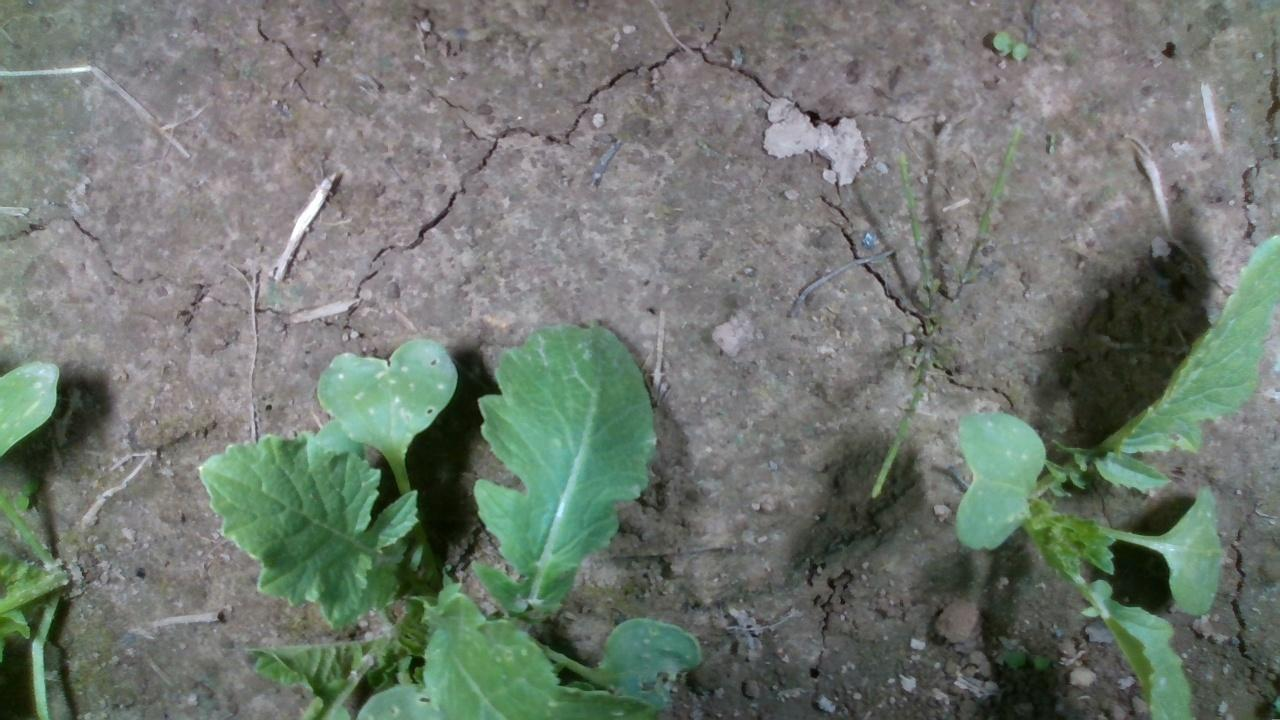weed: (989, 29, 1031, 61)
